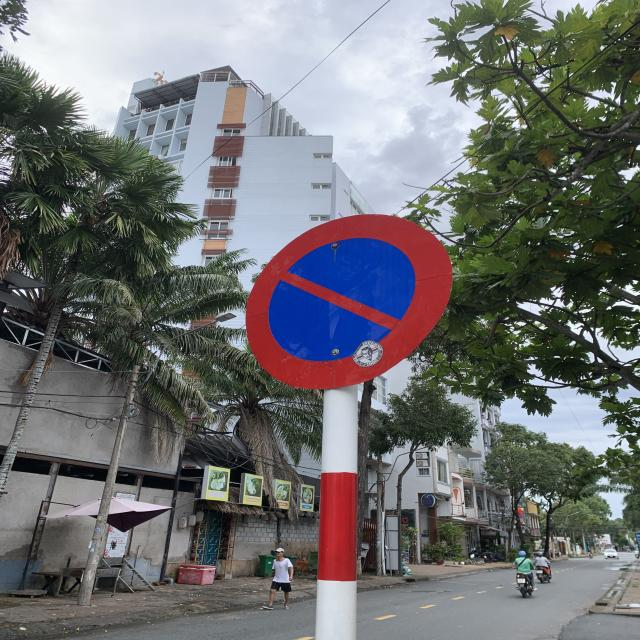Cam_Dau_Xe: (242, 212, 462, 390)
